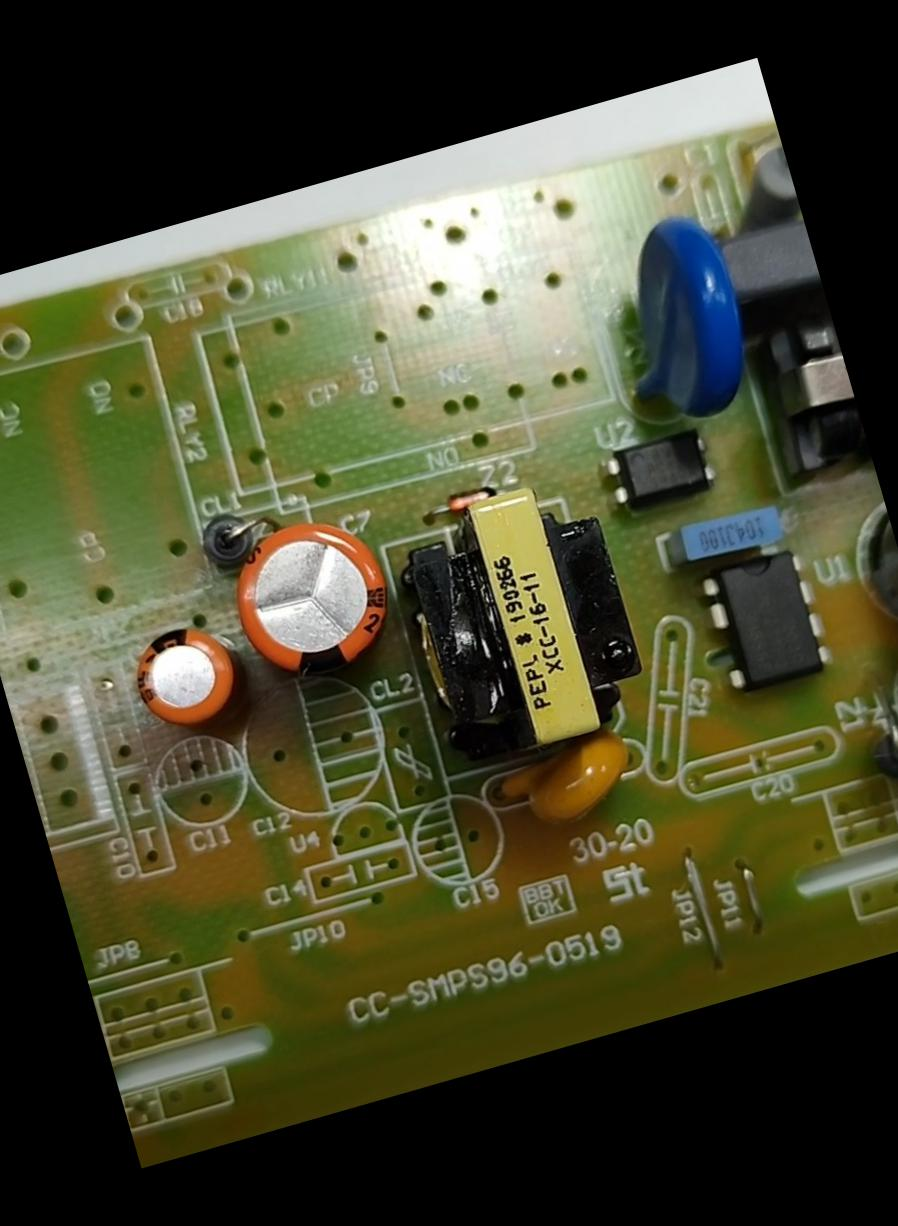Cap1: (207, 497, 417, 703)
Cap2: (107, 608, 261, 752)
Cap3: (834, 475, 897, 647)
Cap4: (873, 616, 897, 798)
MOSFET: (684, 524, 852, 710)
Mov: (574, 192, 782, 447)
Resistor: (709, 132, 811, 270)
Transformer: (364, 461, 667, 790), (728, 298, 876, 503)
